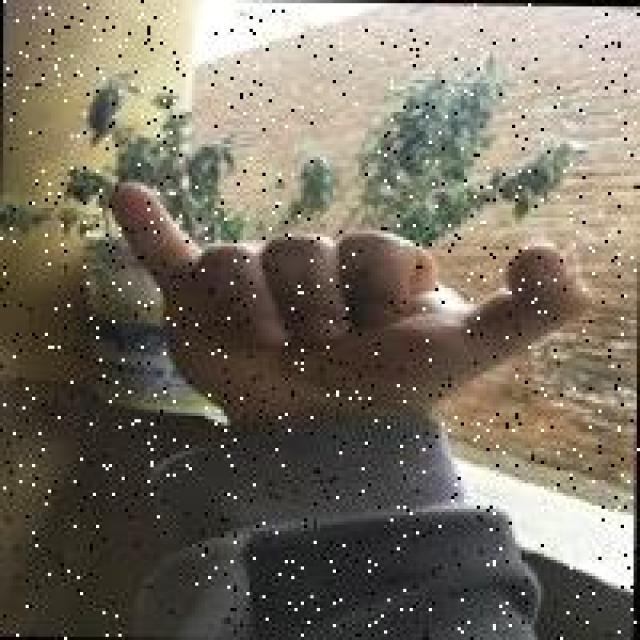Y: (103, 170, 602, 432)
